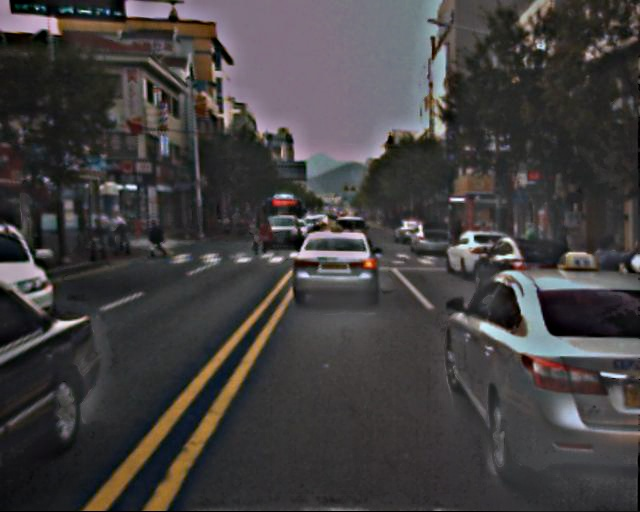person: (587, 236, 629, 339), (91, 213, 165, 258), (555, 217, 573, 260), (259, 219, 274, 255), (249, 230, 258, 253)
